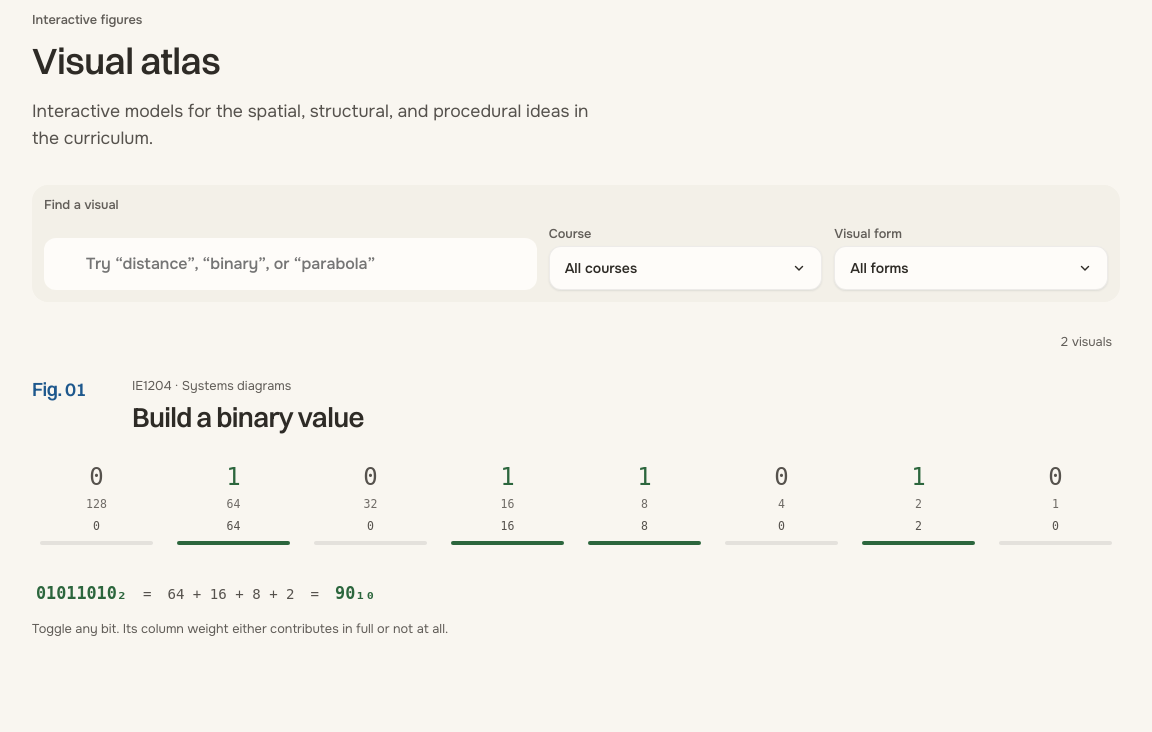
it: VisualAtlasPage › shows the result count and keeps figure numbers stable while filtering
Expected: the text "Fig. 01" is shown, left=32, top=376, right=86, bottom=400
Expected: the text "2 visuals" is shown, left=1060, top=334, right=1112, bottom=350
Click the dropdown labelled "All courses".
click(601, 268)  # box left=549, top=246, right=822, bottom=290
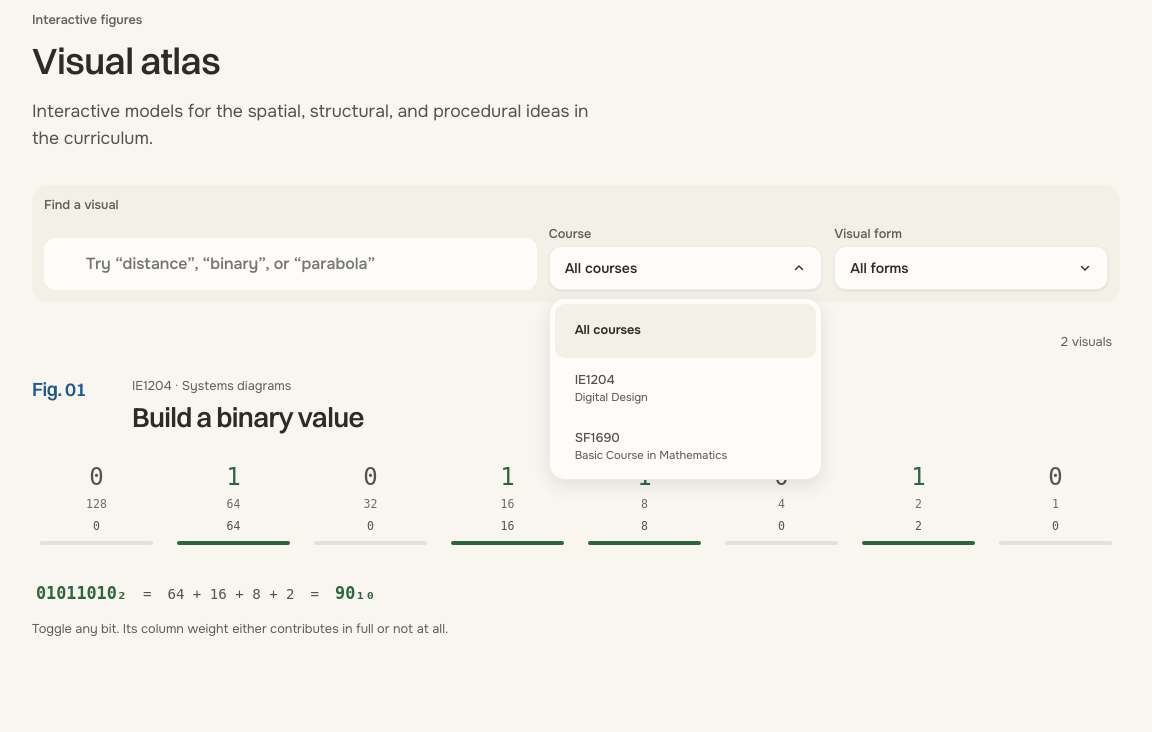
Click the option "SF1690 Basic Course in Mathematics".
click(651, 446)  # box left=575, top=430, right=727, bottom=462
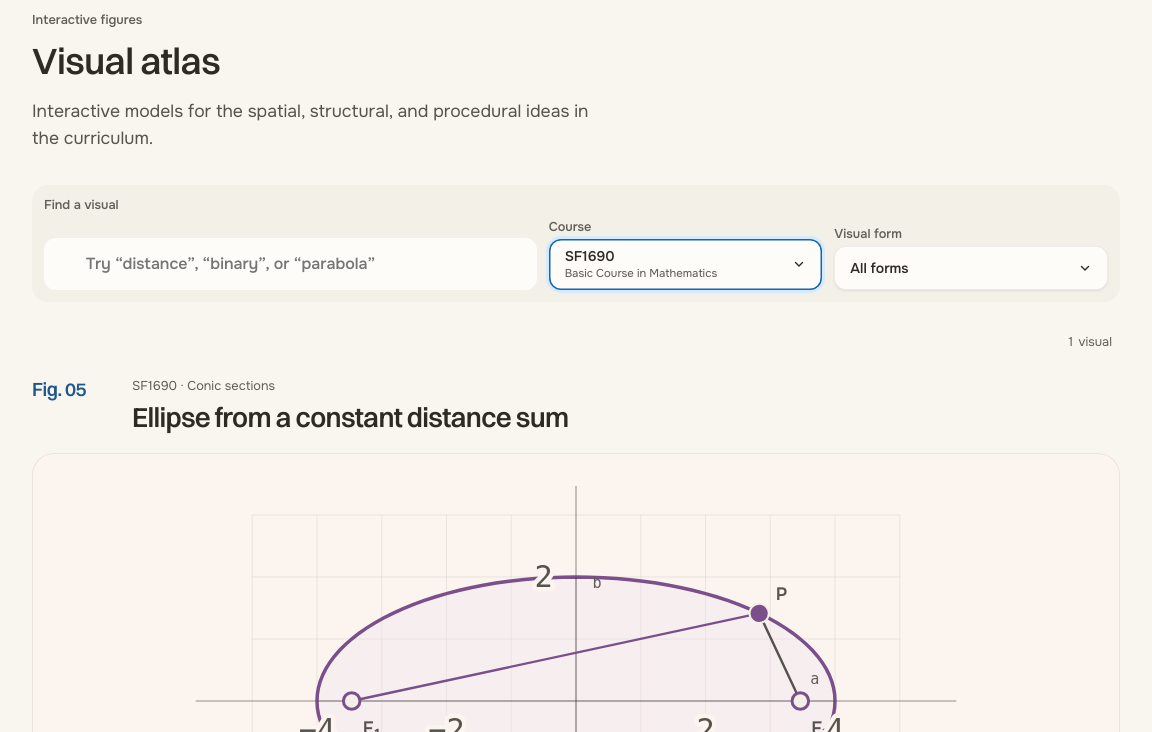
Expected: the text "Fig. 01" is gone
Expected: the text "1 visual" is shown, left=1066, top=334, right=1112, bottom=350
Expected: the dropdown labelled "SF1690 Basic Course in Mathematics" is shown, left=549, top=239, right=822, bottom=290
